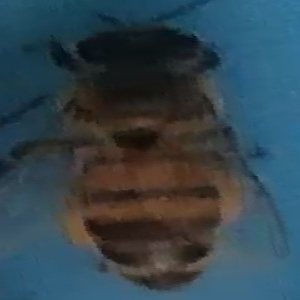bee: (5, 6, 293, 293)
